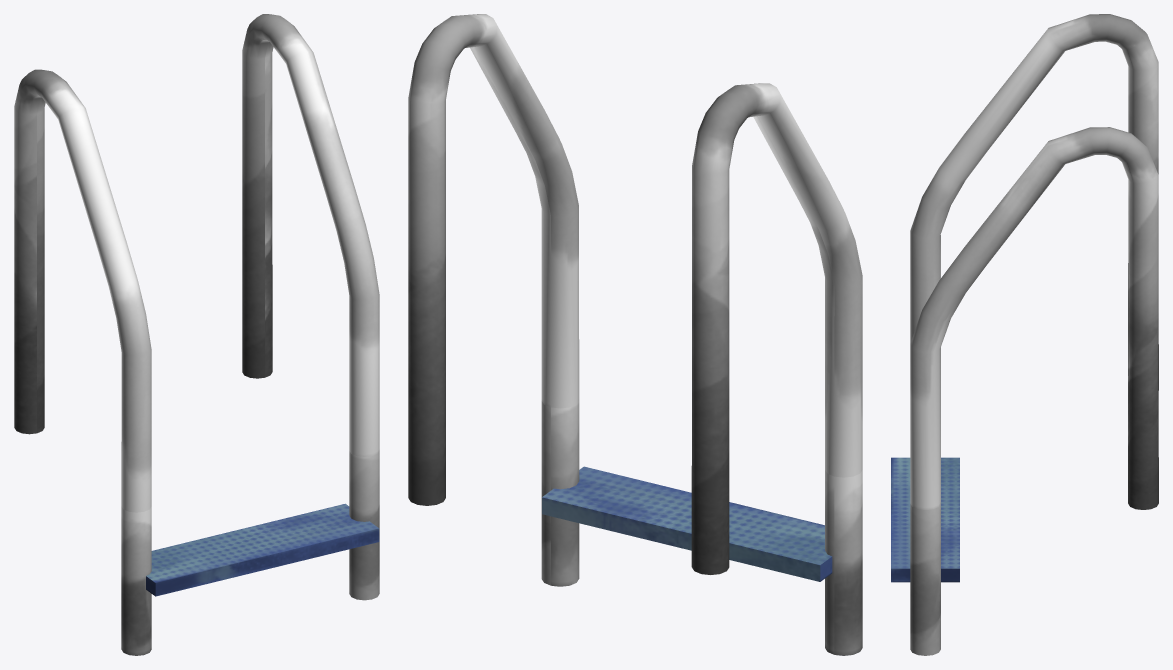
File: Ladder_Asset.fbx
3 views of the same model, side by side, from view 1: azimuth 30°, elevation 25°; view 2: azimuth 150°, elevation 25°; view 3: azimuth 270°, elevation 25° (orthographic). The views are drawn at different scales.
Parts seen in each view (by area): view 1: Ladder, LadderStep; view 2: Ladder, LadderStep; view 3: Ladder, LadderStep.
Boxes of the visible parts, box(x1,y1,x2,y2) form: Ladder: box(14, 14, 379, 512); LadderStep: box(121, 451, 379, 655); Ladder: box(408, 14, 862, 574); LadderStep: box(541, 401, 862, 655); Ladder: box(910, 14, 1158, 509); LadderStep: box(891, 457, 959, 655).
Size of the model in its own units: 64.03 by 57.43 by 123.
